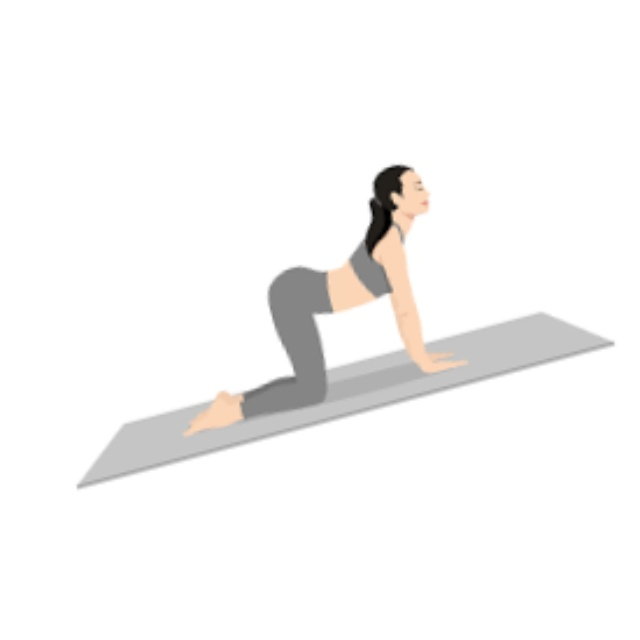Cow_Pose: (180, 163, 472, 439)
